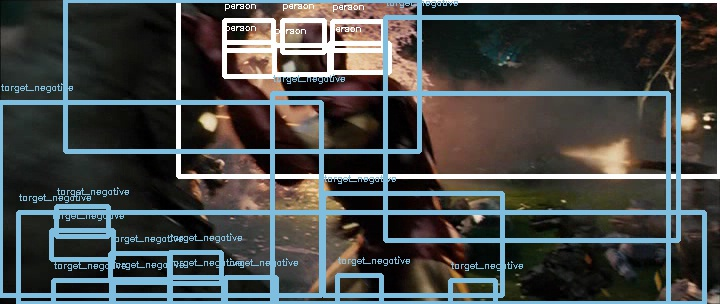person: (276, 22, 344, 104), (275, 22, 343, 104), (277, 22, 345, 104), (276, 21, 344, 103), (276, 23, 344, 105)
target_negative: (261, 186, 667, 278), (220, 95, 648, 159), (362, 142, 544, 283), (66, 197, 142, 277), (352, 49, 424, 128), (27, 128, 98, 163)
